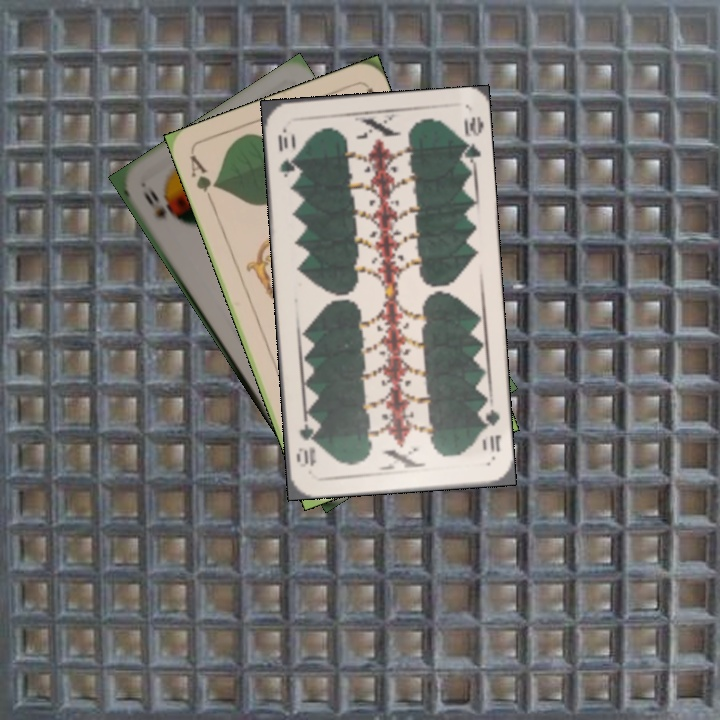G10: (476, 404, 504, 455), (274, 124, 299, 180)
GA: (186, 151, 221, 208)
SO: (139, 183, 170, 222)
